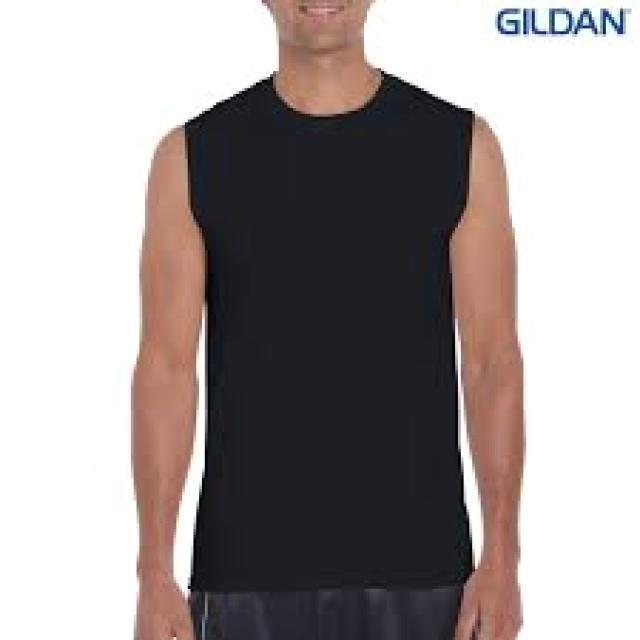no_vest: (186, 70, 477, 588)
